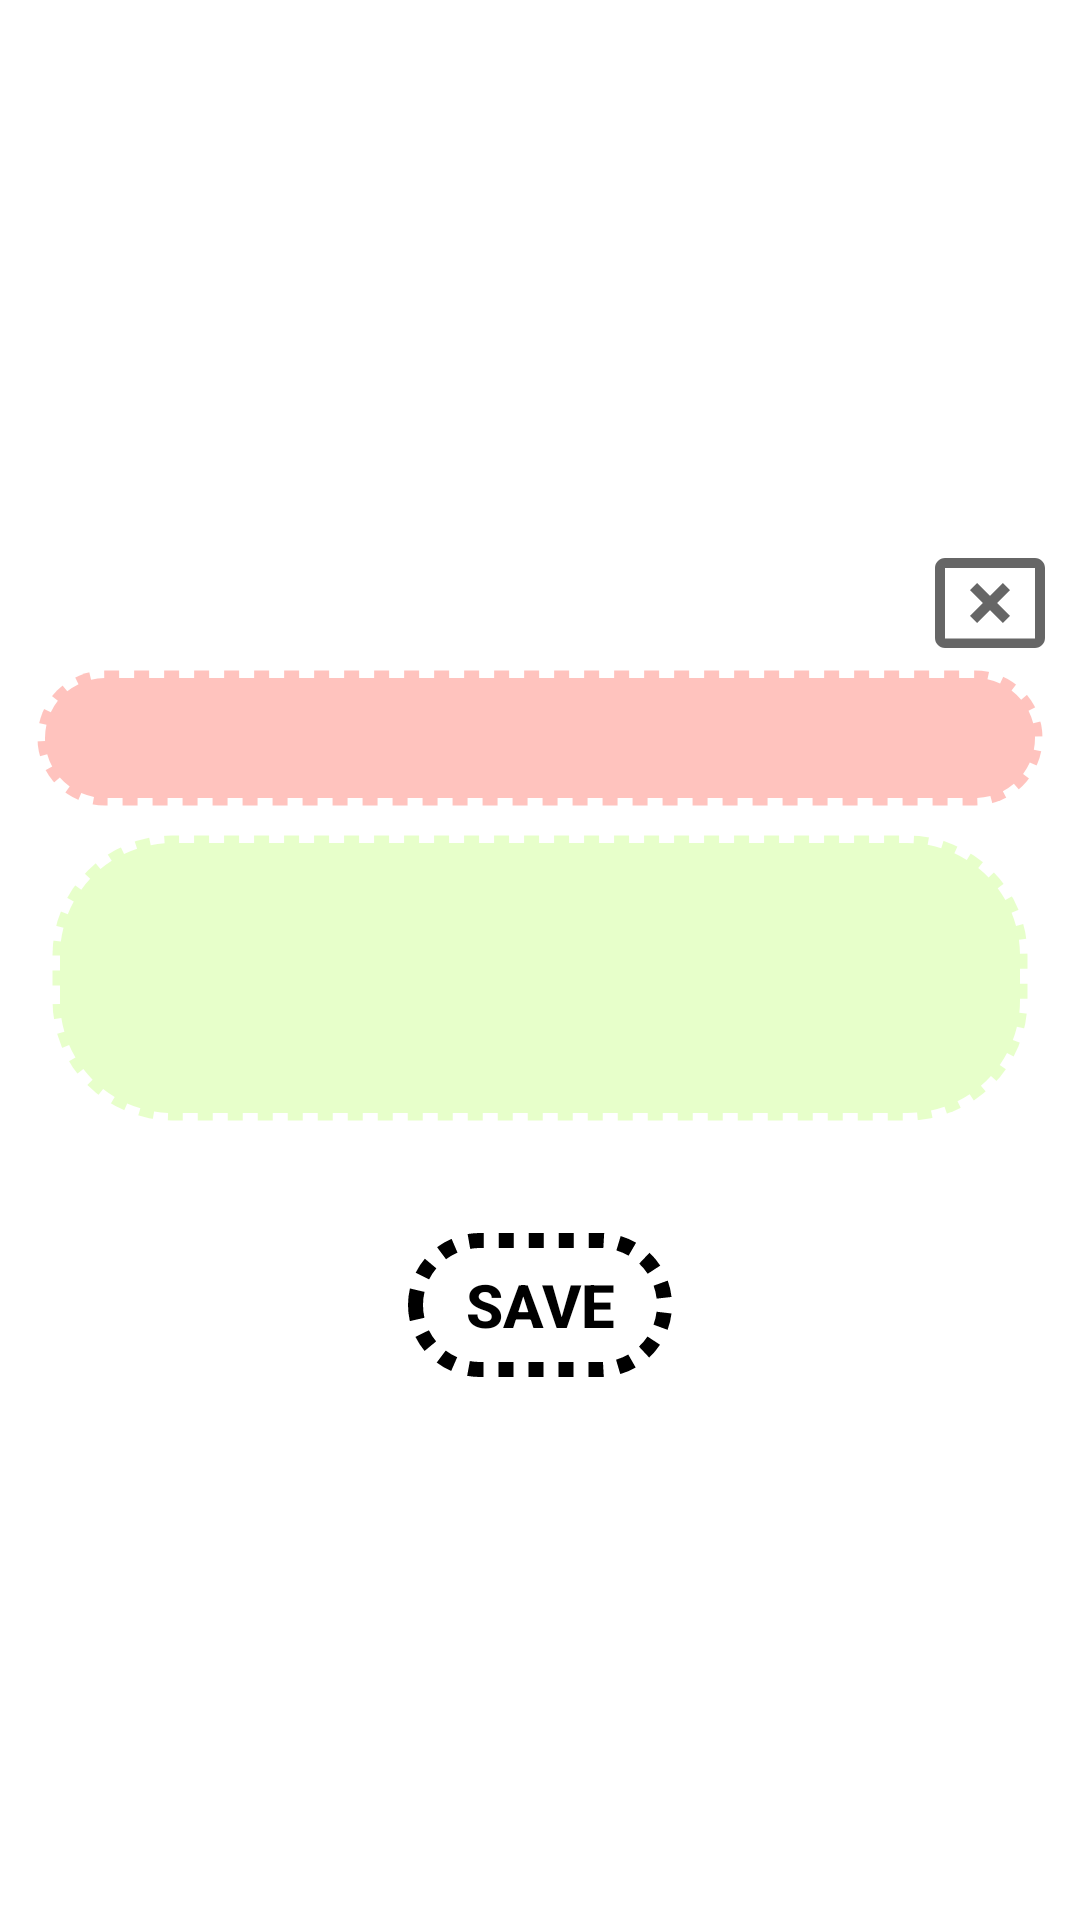

Where to tap for icons on this 1080px x 1920px app screen, as [x,y]:
cancel presentation: [990,603]
